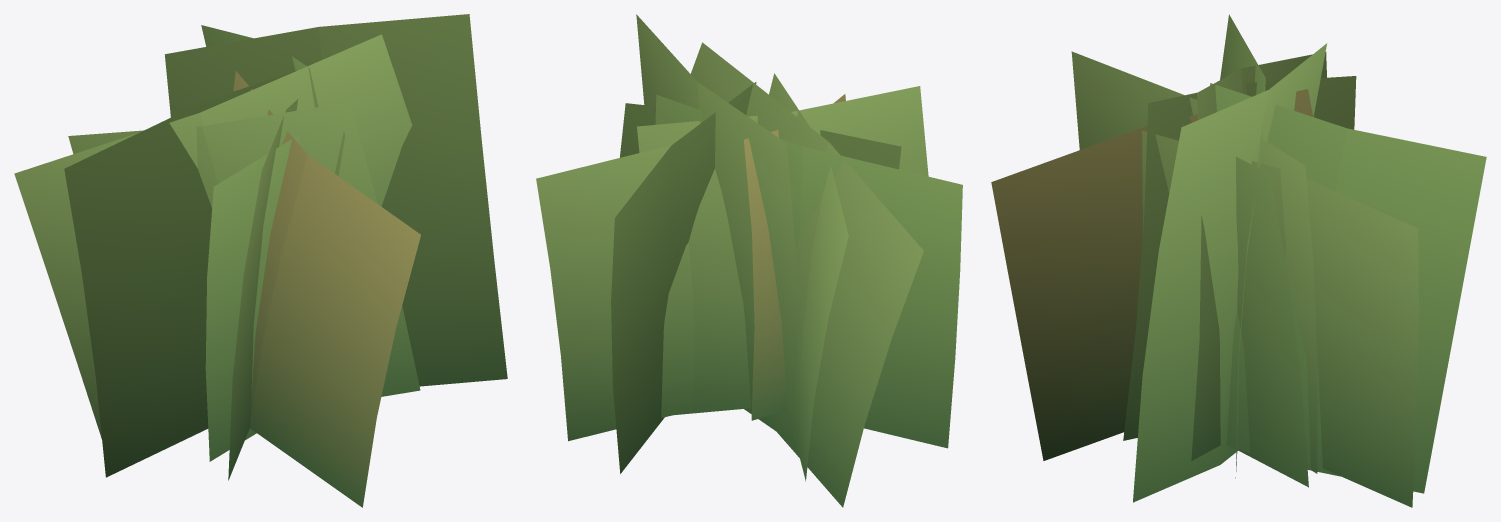
File: grass_medium_01.glb
3 renders of one model, left to right at view 1: azimuth 30°, elevation 25°; view 2: azimuth 150°, elevation 25°; view 3: azimuth 270°, elevation 25°, orthographic. The views are drawn at different scales.
Parts seen in each view (by area): view 1: isl_grass_medium_01; view 2: isl_grass_medium_01; view 3: isl_grass_medium_01.
Boxes of the visible parts, left/top/right/bottom form: isl_grass_medium_01: left=14, top=14, right=507, bottom=507; isl_grass_medium_01: left=536, top=14, right=962, bottom=507; isl_grass_medium_01: left=991, top=14, right=1486, bottom=507.
Bounding box in the file's own units: 0.5094 × 0.5141 × 0.5212.
